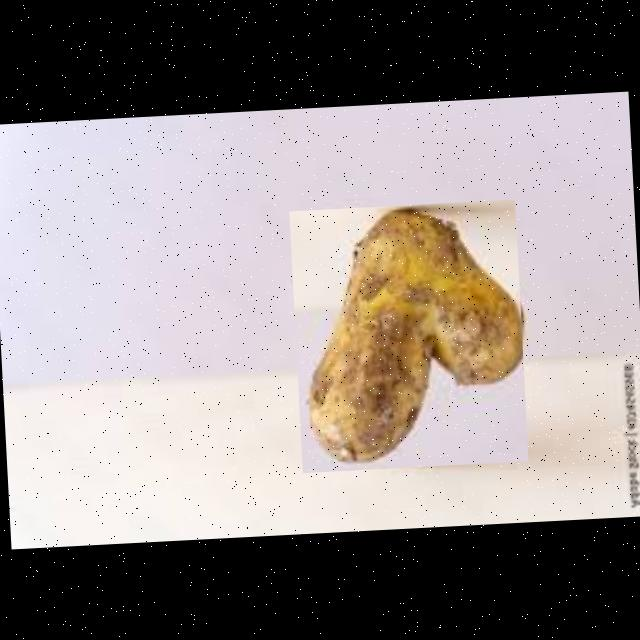Damaged potato: (290, 200, 528, 473)
